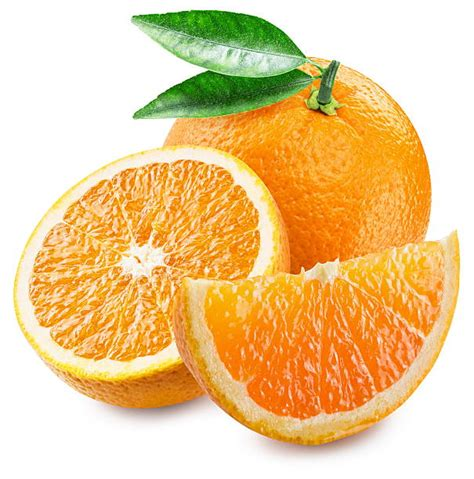orange: (151, 50, 436, 265)
